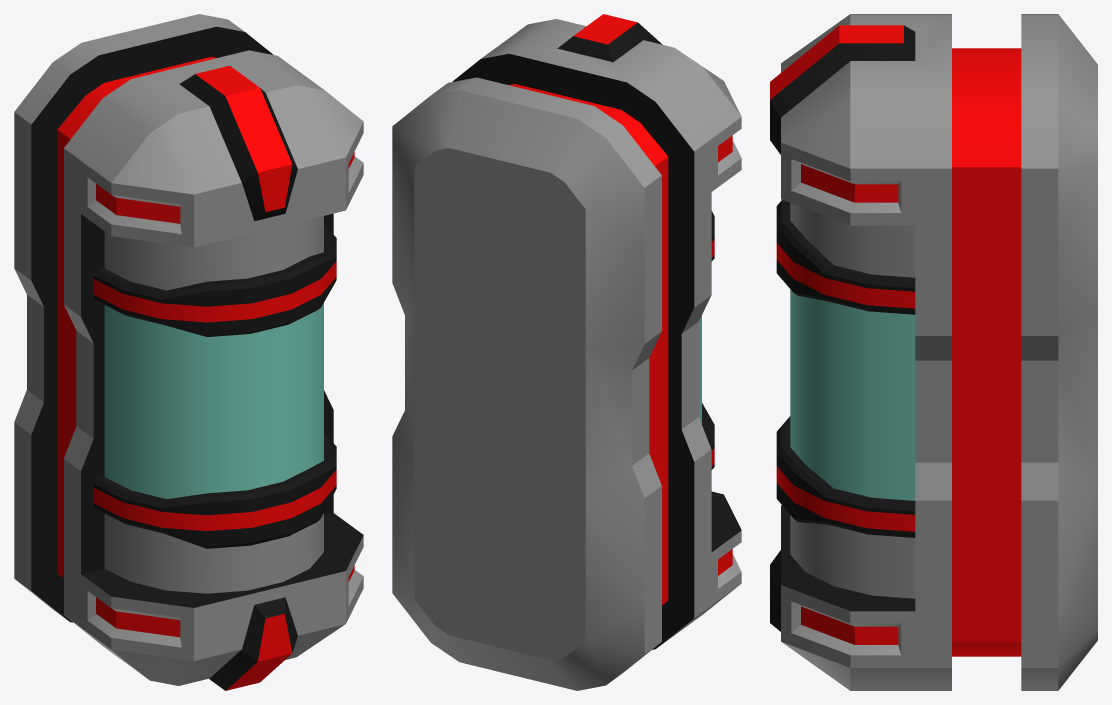
The model's file is Elevator.fbx.
The picture shows the model from 3 angles, left to right: view 1: azimuth 30°, elevation 25°; view 2: azimuth 150°, elevation 25°; view 3: azimuth 270°, elevation 25°; orthographic projection. The views are drawn at different scales.
Visible parts, largest first — view 1: Elevator; view 2: Elevator; view 3: Elevator.
Boxes of the visible parts, x1,y1,x2,y2 form: Elevator: (14, 14, 363, 690); Elevator: (392, 14, 741, 690); Elevator: (770, 14, 1097, 690).
Size of the model in its own units: 360 by 811 by 379.
